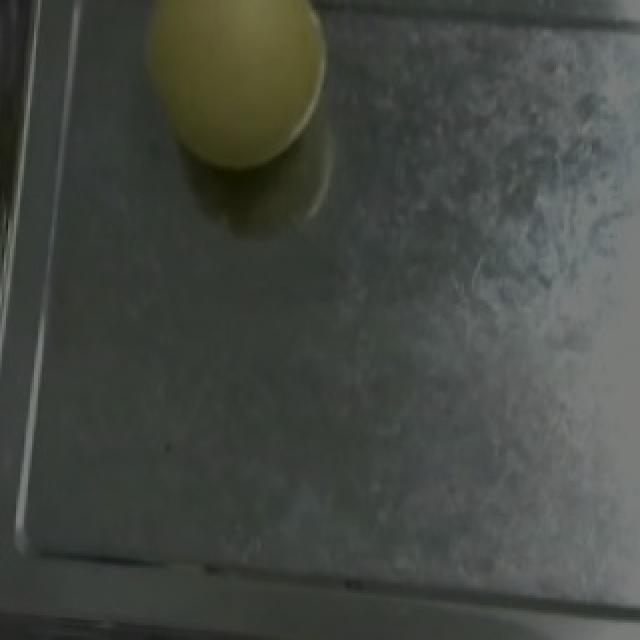Fruit: (124, 0, 338, 181)
